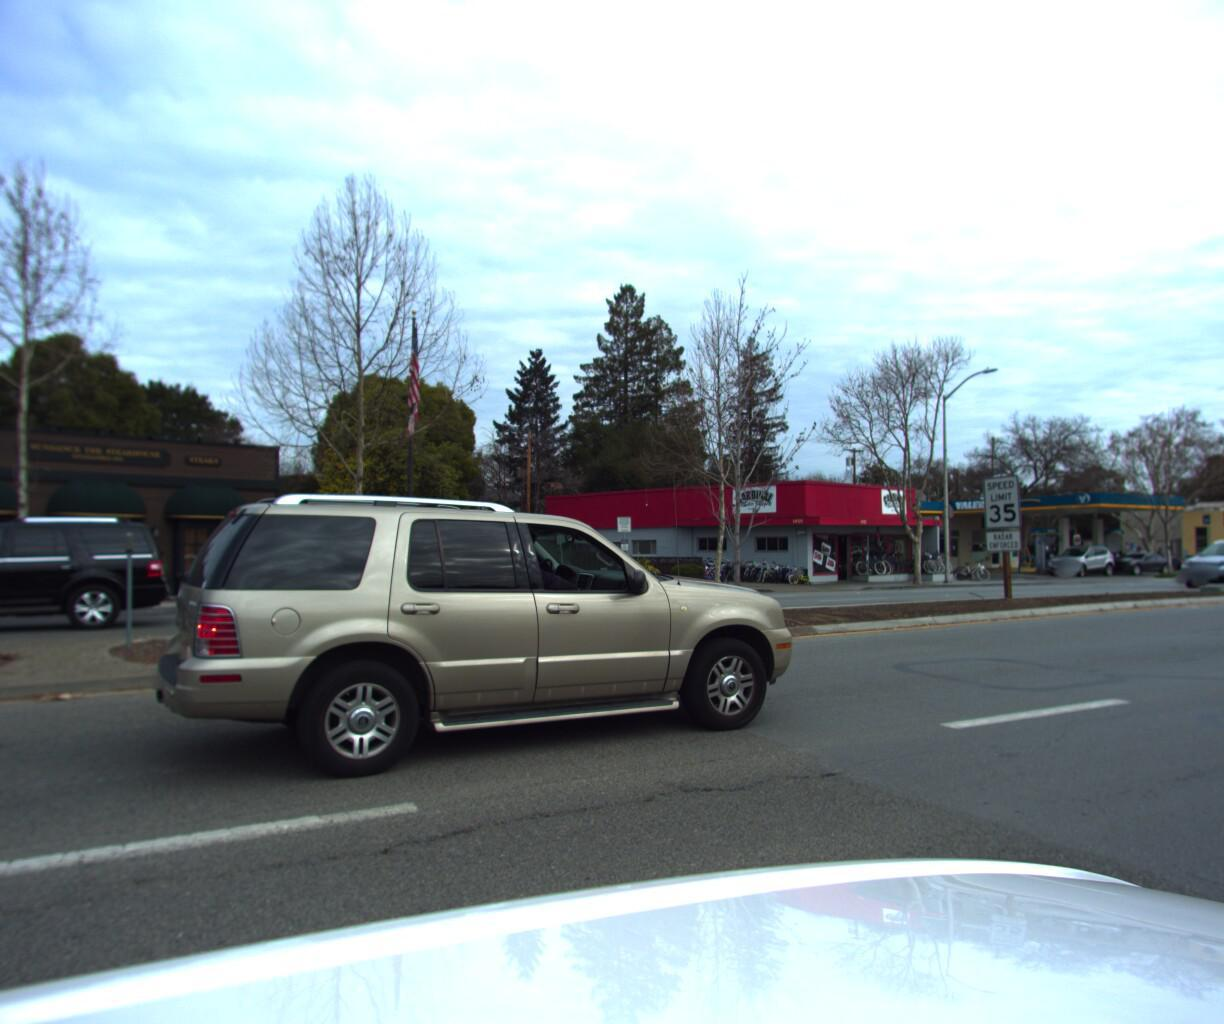bicycle: (952, 552, 991, 580), (688, 557, 722, 587), (698, 557, 731, 587), (767, 556, 797, 585), (758, 556, 788, 585), (749, 556, 779, 584), (739, 556, 769, 584), (730, 556, 760, 583), (784, 560, 808, 585)
car: (145, 505, 795, 832), (0, 505, 170, 647), (1033, 540, 1117, 574), (1092, 548, 1173, 573)
